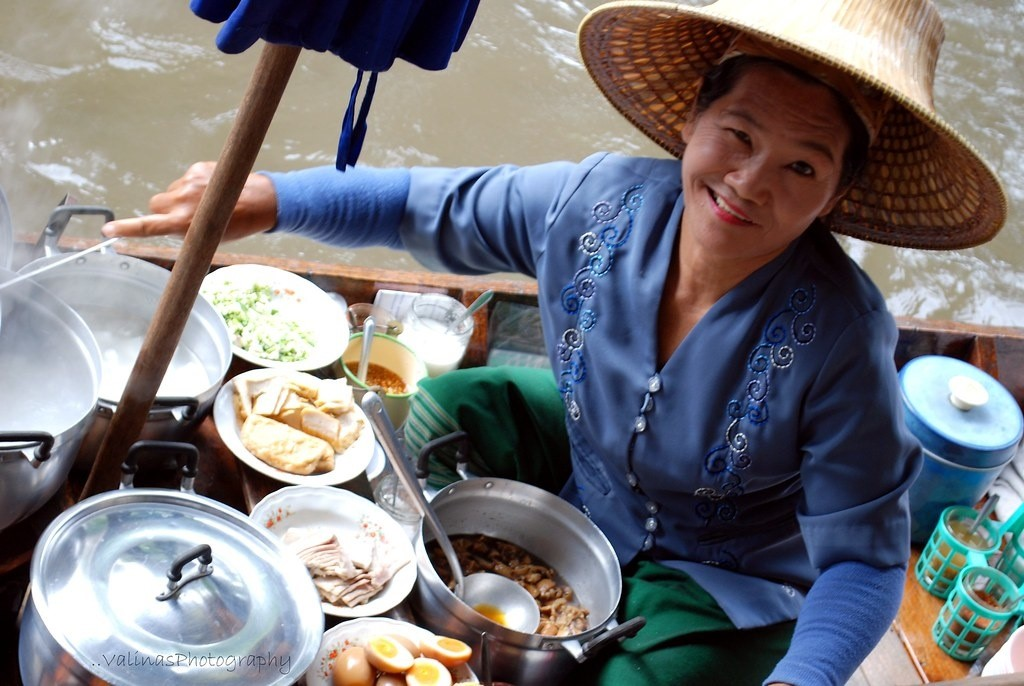face_no_mask: (674, 34, 849, 272)
